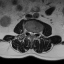CCS_stenosis: (31, 30, 33, 37)
LFS_stenosis: (36, 31, 37, 35)
LLS_normal: (33, 31, 35, 35)
RFS_stenosis: (28, 29, 29, 34)
RLS_normal: (29, 30, 31, 35)
